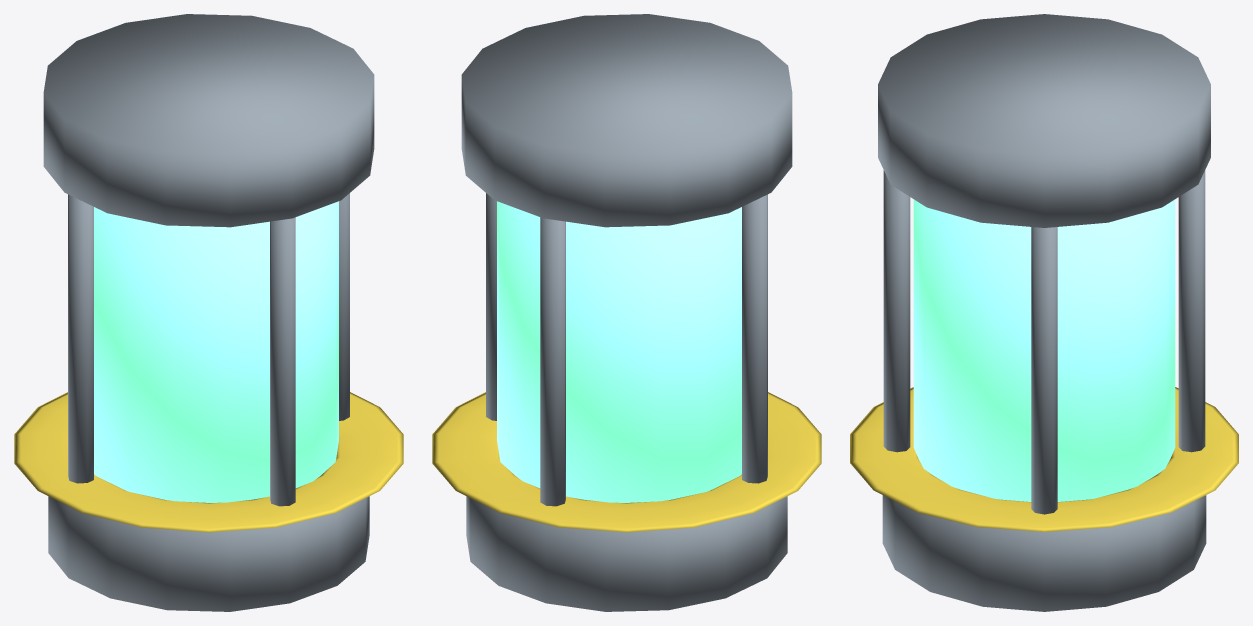
The model's file is prop_lab_vat.glb.
3 views of the same model, side by side, from view 1: azimuth 30°, elevation 25°; view 2: azimuth 150°, elevation 25°; view 3: azimuth 270°, elevation 25° (orthographic).
Parts seen in each view (by area): view 1: VatBase; view 2: VatBase; view 3: VatBase.
Part boxes in pixels (bbox=[...]): VatBase: bbox=[14, 14, 403, 611]; VatBase: bbox=[432, 14, 821, 611]; VatBase: bbox=[850, 14, 1238, 611].
Size of the model in its own units: 8.3 by 10.65 by 8.17.
